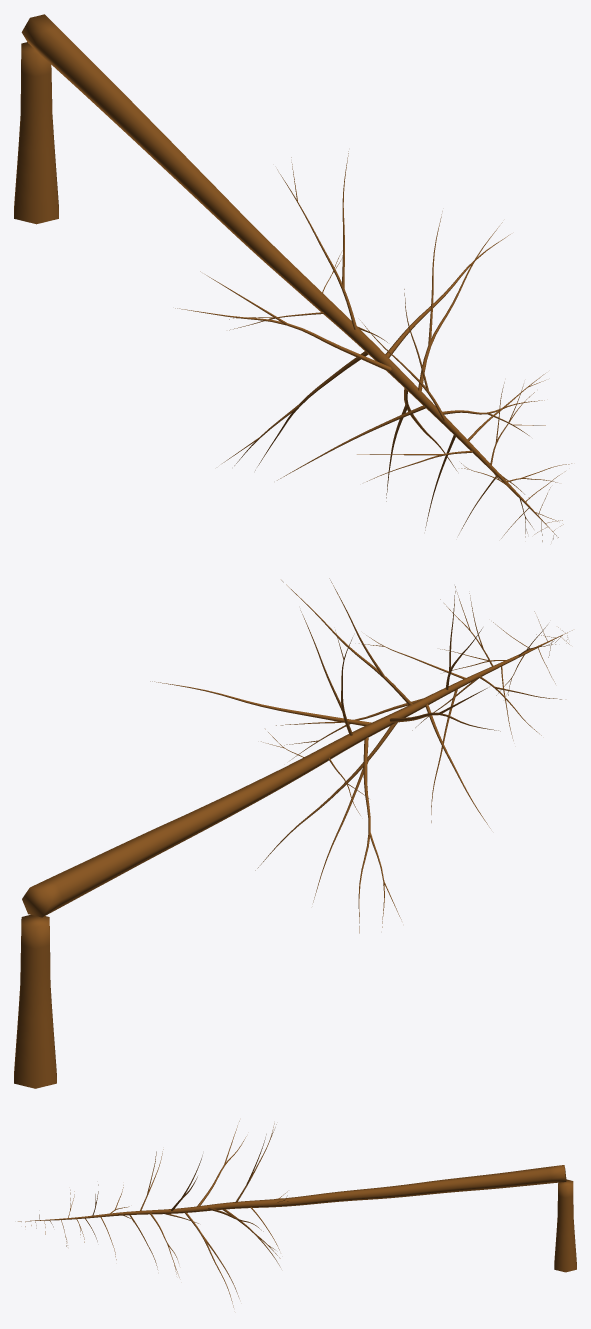
File: PohonMiring.fbx
3 views of the same model, one above another, from view 1: azimuth 30°, elevation 25°; view 2: azimuth 150°, elevation 25°; view 3: azimuth 270°, elevation 25° (orthographic). The views are drawn at different scales.
Parts seen in each view (by area): view 1: tree.002, tree.001; view 2: tree.002, tree.001; view 3: tree.002, tree.001.
Boxes of the visible parts, box(x1,y1,x2,y2) form: tree.002: box(21, 14, 571, 541); tree.001: box(14, 42, 58, 224); tree.002: box(22, 578, 572, 933); tree.001: box(14, 915, 56, 1088); tree.002: box(18, 1121, 566, 1307); tree.001: box(554, 1179, 576, 1272).
Bounding box in the file's own units: 1483 × 1351 × 3979.
